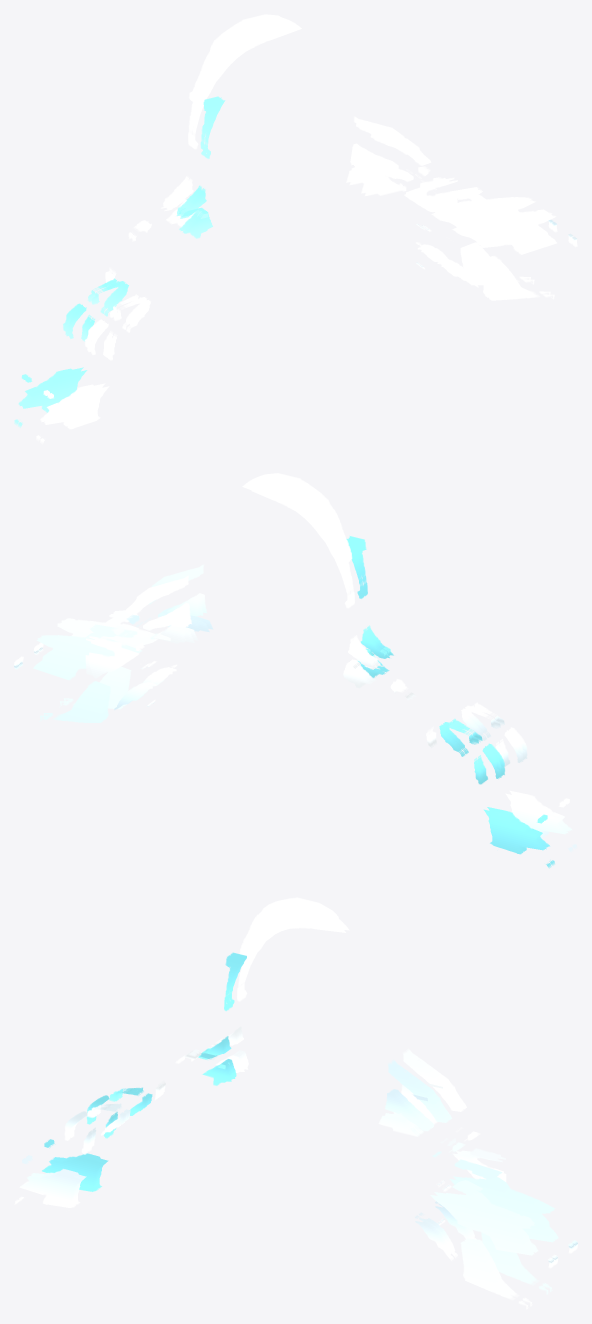
Rendered from yuna_curve_bundle_hair_v1_repair_attempt_04.glb.
3 renders of one model, top to bottom at view 1: azimuth 30°, elevation 25°; view 2: azimuth 150°, elevation 25°; view 3: azimuth 330°, elevation 25°, orthographic.
Visible parts, largest first — view 1: back_hair_mass_repair_04_01_01, bangs_primary_repair_04_01_01, side_hair_right_primary_repair_04_01_01, back_hair_mass_repair_04_02_01, side_hair_left_primary_repair_04_01_01, side_hair_right_primary_repair_04_02_01, side_hair_right_primary_repair_04_03_01, bangs_primary_repair_04_02_01, bangs_primary_repair_04_03_01, back_hair_mass_repair_04_01_03, back_hair_mass_repair_04_01_02, side_hair_right_primary_repair_04_01_03 (+1 smaller); view 2: side_hair_right_primary_repair_04_01_03, bangs_primary_repair_04_01_03, back_hair_mass_repair_04_01_03, side_hair_left_primary_repair_04_01_03, bangs_primary_repair_04_01_01, back_hair_mass_repair_04_02_03, bangs_primary_repair_04_04_03, bangs_primary_repair_04_02_03, bangs_primary_repair_04_03_03, side_hair_right_primary_repair_04_01_01, bangs_primary_repair_04_01_02, back_hair_mass_repair_04_01_01 (+1 smaller); view 3: back_hair_mass_repair_04_01_01, side_hair_right_primary_repair_04_01_01, bangs_primary_repair_04_01_01, back_hair_mass_repair_04_02_01, side_hair_left_primary_repair_04_01_01, side_hair_right_primary_repair_04_03_01, side_hair_right_primary_repair_04_02_01, bangs_primary_repair_04_04_01, back_hair_mass_repair_04_01_03, back_hair_mass_repair_04_01_02, side_hair_right_primary_repair_04_01_03, side_hair_right_primary_repair_04_01_02 (+1 smaller).
Part boxes in pixels (box(x1,y1,x2,y2)): back_hair_mass_repair_04_01_01: box(452, 203, 556, 300); bangs_primary_repair_04_01_01: box(190, 15, 301, 149); side_hair_right_primary_repair_04_01_01: box(415, 188, 535, 285); back_hair_mass_repair_04_02_01: box(38, 383, 109, 444); side_hair_left_primary_repair_04_01_01: box(16, 367, 87, 427); side_hair_right_primary_repair_04_02_01: box(361, 146, 414, 195); side_hair_right_primary_repair_04_03_01: box(370, 128, 445, 193); bangs_primary_repair_04_02_01: box(401, 177, 457, 212); bangs_primary_repair_04_03_01: box(346, 135, 399, 185); back_hair_mass_repair_04_01_03: box(460, 202, 551, 299); back_hair_mass_repair_04_01_02: box(465, 203, 552, 299); side_hair_right_primary_repair_04_01_03: box(413, 187, 532, 283); side_hair_right_primary_repair_04_01_03: box(33, 626, 155, 722); bangs_primary_repair_04_01_03: box(251, 474, 352, 608); back_hair_mass_repair_04_01_03: box(57, 611, 149, 709); side_hair_left_primary_repair_04_01_03: box(488, 811, 553, 868); bangs_primary_repair_04_01_01: box(242, 473, 354, 606); back_hair_mass_repair_04_02_03: box(510, 794, 575, 852); bangs_primary_repair_04_04_03: box(111, 577, 186, 640); bangs_primary_repair_04_02_03: box(88, 639, 142, 678); bangs_primary_repair_04_03_03: box(151, 599, 188, 643); side_hair_right_primary_repair_04_01_01: box(37, 624, 157, 721); bangs_primary_repair_04_01_02: box(259, 474, 353, 607); back_hair_mass_repair_04_01_01: box(57, 610, 157, 707); back_hair_mass_repair_04_01_01: box(430, 1181, 536, 1309); side_hair_right_primary_repair_04_01_01: box(432, 1153, 556, 1294); bangs_primary_repair_04_01_01: box(237, 898, 349, 1001); back_hair_mass_repair_04_02_01: box(14, 1156, 86, 1207); side_hair_left_primary_repair_04_01_01: box(42, 1140, 108, 1191); side_hair_right_primary_repair_04_03_01: box(388, 1061, 463, 1152); side_hair_right_primary_repair_04_02_01: box(378, 1090, 427, 1136); bangs_primary_repair_04_04_01: box(403, 1050, 478, 1141); back_hair_mass_repair_04_01_03: box(442, 1180, 538, 1307); back_hair_mass_repair_04_01_02: box(446, 1181, 537, 1308); side_hair_right_primary_repair_04_01_03: box(434, 1151, 558, 1292); side_hair_right_primary_repair_04_01_02: box(433, 1152, 557, 1286).
Bounding box in the file's own units: 3.1 × 1.86 × 0.417.
Materials: 5 (4 with a texture image).
